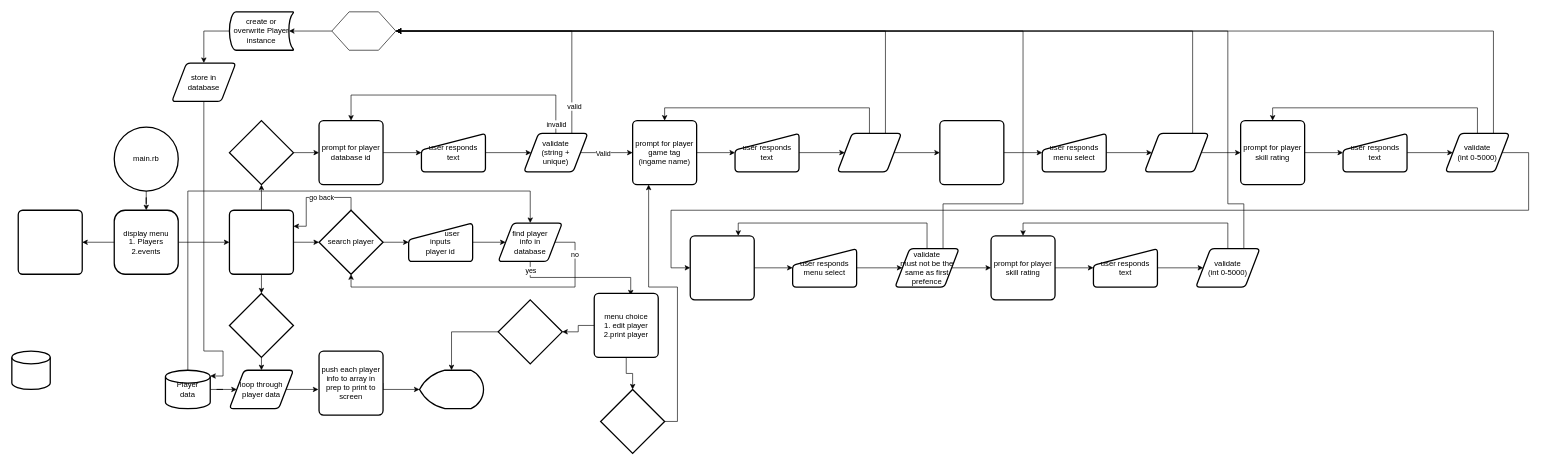
The diagram is 1545 pixels wide and 465 high, and some of its shapes have lost their labels. The shapes that lost their labels are listed below. From the top down, each one's box as (x1, y1, x2, y2) in pixels, then its label:
(331, 11, 396, 50): Collected player data stored as variables
(228, 120, 294, 185): new player
(836, 132, 902, 172): validate (string)
(939, 120, 1004, 185): prompt for player role preferance
(1144, 132, 1209, 172): collect data
(17, 209, 83, 275): events menu 1. search past events 2. create new event
(228, 209, 294, 275): player menu 1. search player 2. edit player 3. new player 4. all players
(689, 235, 755, 300): prompt for player 2nd role preferance
(228, 292, 294, 358): all players
(497, 299, 563, 364): print
(11, 350, 51, 390): Past events
(419, 369, 484, 409): print player info to screen
(600, 388, 665, 454): edit player
